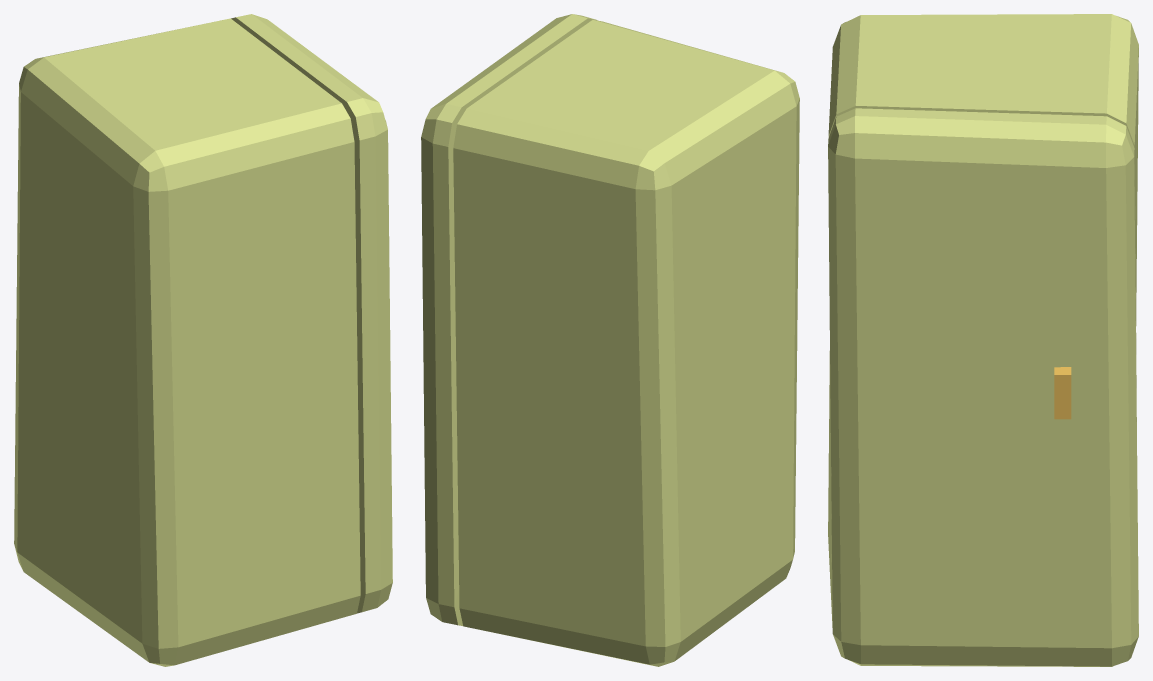
The model's file is Fridge.gltf.
3 renders of one model, left to right at view 1: azimuth 30°, elevation 25°; view 2: azimuth 150°, elevation 25°; view 3: azimuth 270°, elevation 25°, orthographic. The views are drawn at different scales.
Visible parts, largest first — view 1: Fridge; view 2: Fridge; view 3: Fridge.
Part boxes in pixels (x1,y1,x2,y2): Fridge: (14,14,392,666); Fridge: (421,14,799,666); Fridge: (828,14,1138,666).
Size of the model in its own units: 6.43 by 11.83 by 6.05.
